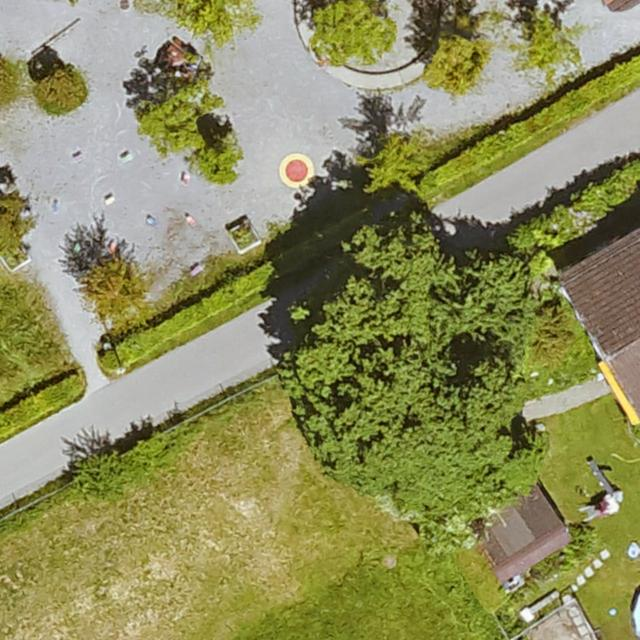tree: (289, 220, 550, 529), (139, 74, 202, 148), (312, 0, 387, 59), (79, 251, 143, 311), (364, 127, 424, 189), (525, 11, 583, 69), (424, 35, 484, 85), (178, 0, 240, 38), (36, 65, 85, 107), (76, 446, 119, 490), (0, 189, 28, 256), (197, 134, 238, 177)
